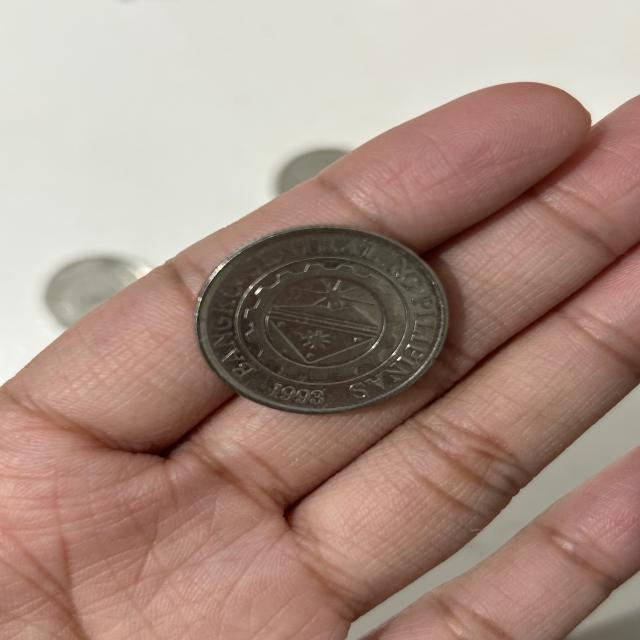1_Old_Back: (230, 256, 410, 386)
